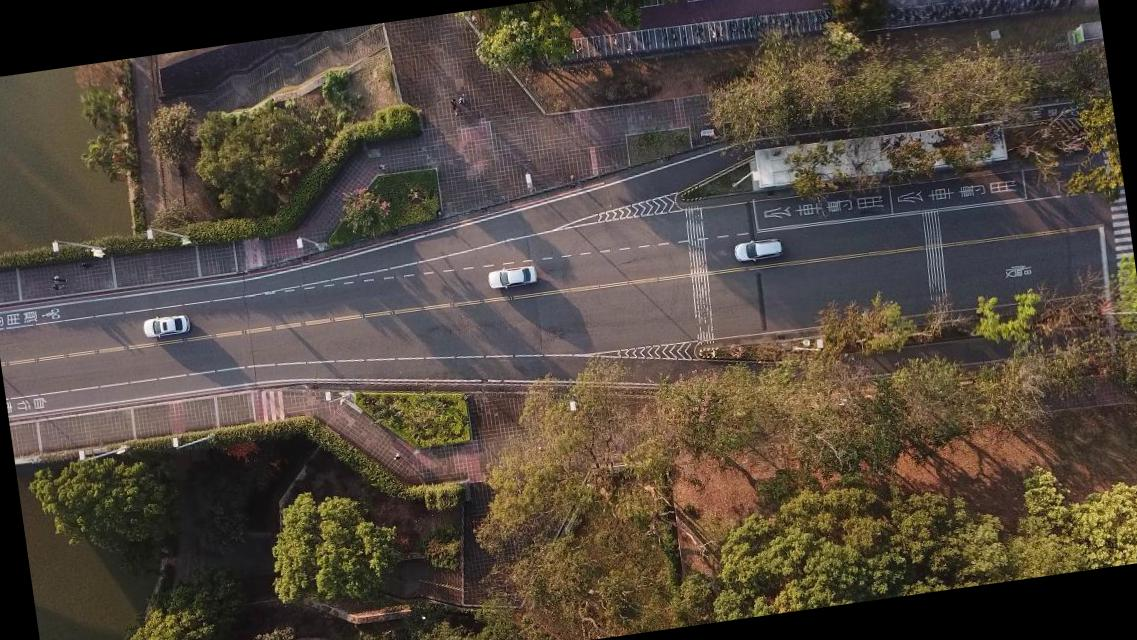vehicle: (733, 237, 784, 265), (487, 264, 538, 291), (142, 312, 190, 340)
